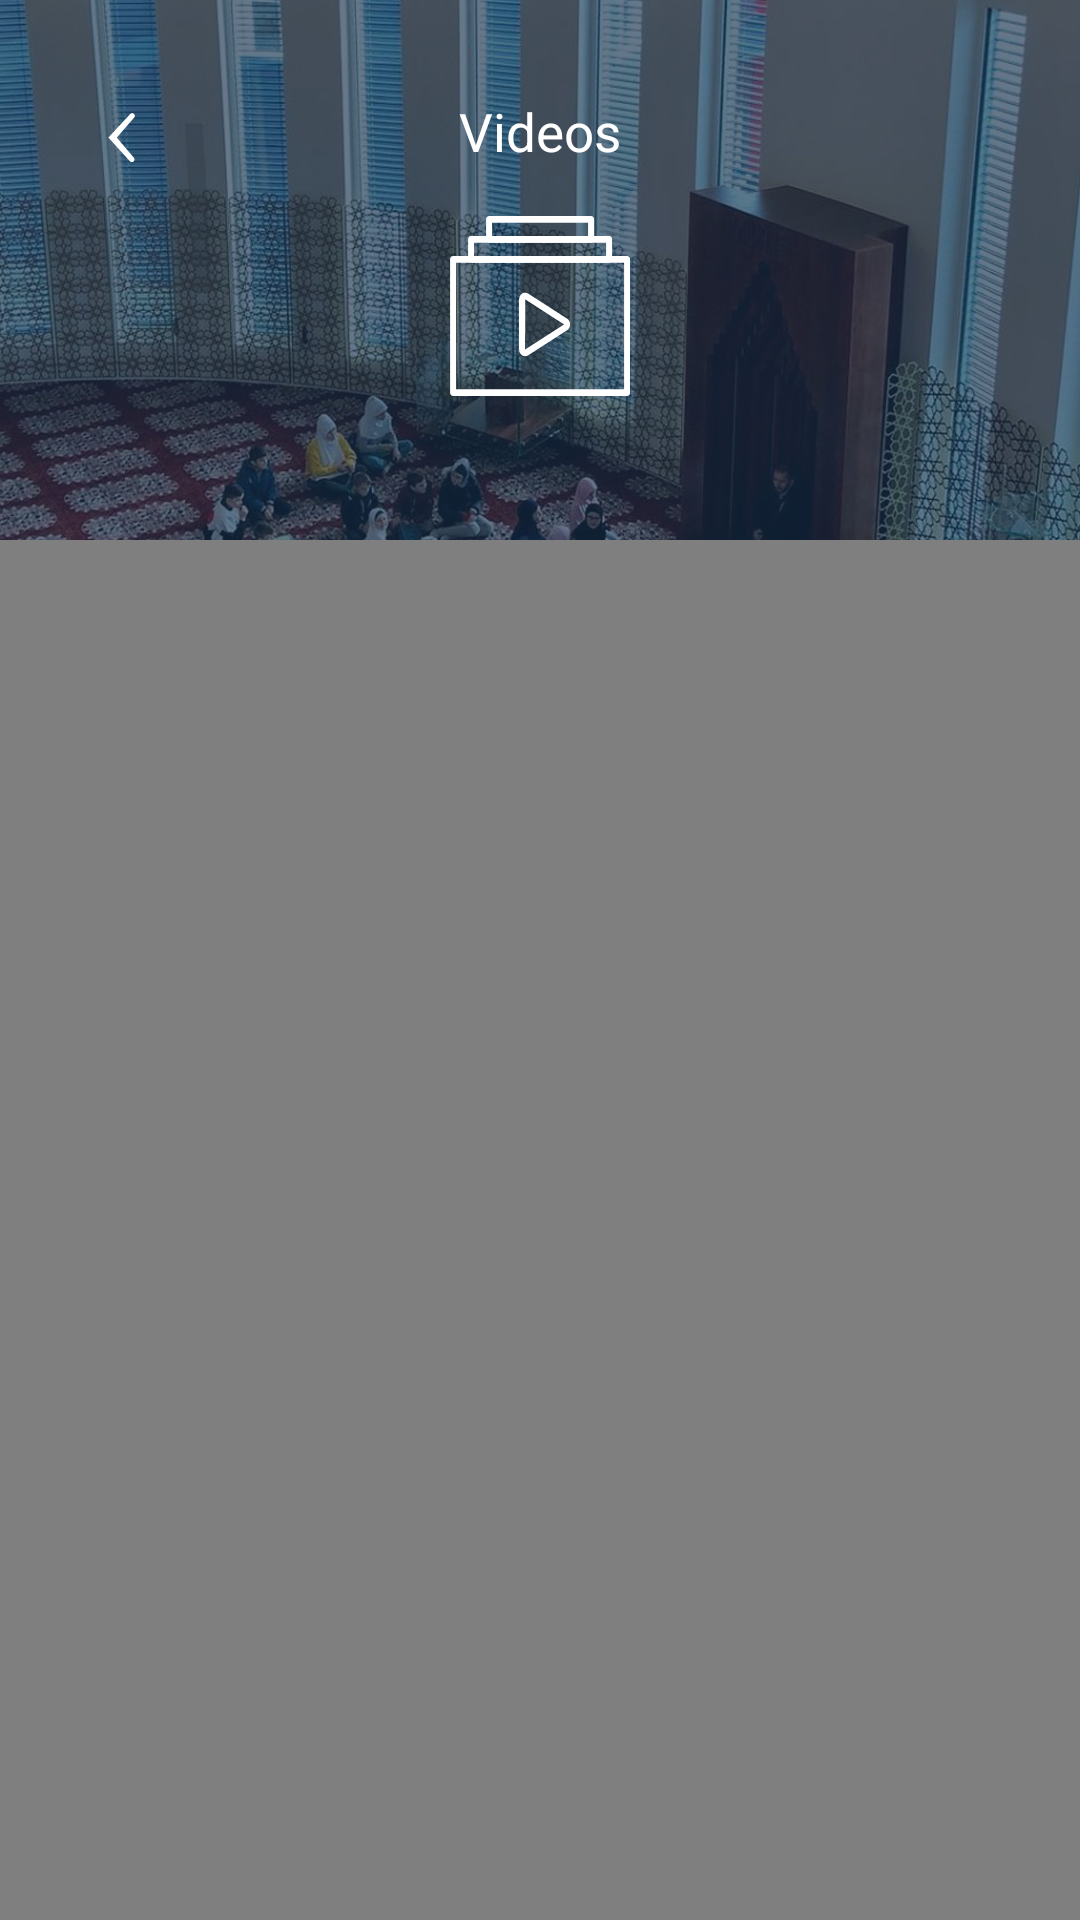

Icons on this 1080 x 1920 Android screen, each with the point to tap as (x=x, y=y):
playlist folder: (x=540, y=306)
